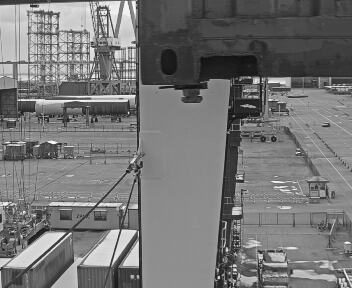twist_lock_1: (146, 168, 234, 225)
